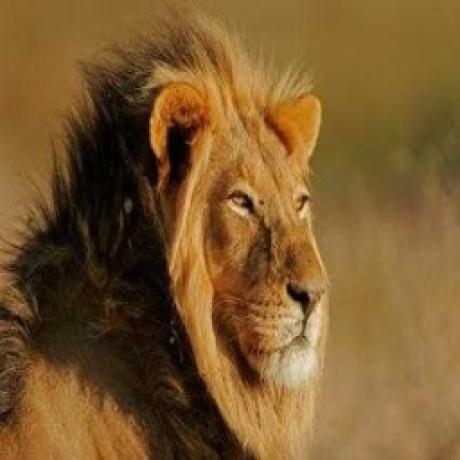Lion: (0, 21, 338, 460)
